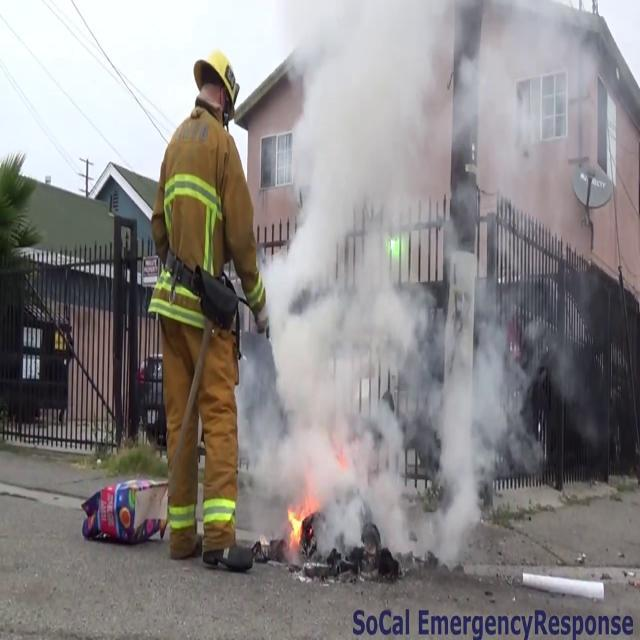Fire: (284, 498, 312, 554)
Smoke: (250, 0, 520, 572)
